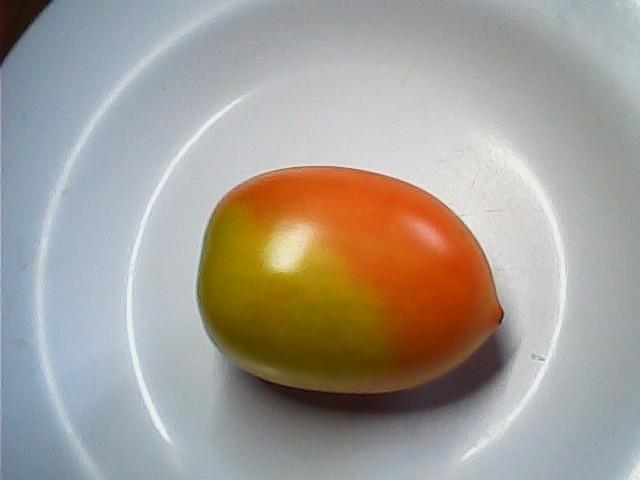verde: (195, 163, 505, 402)
